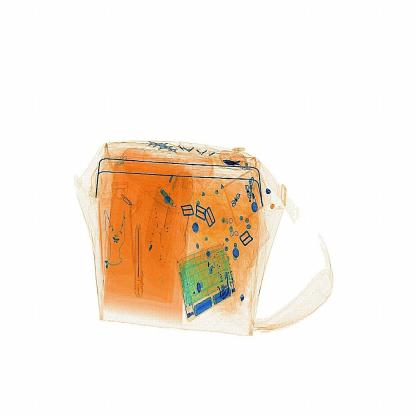pliers: (130, 220, 147, 304)
